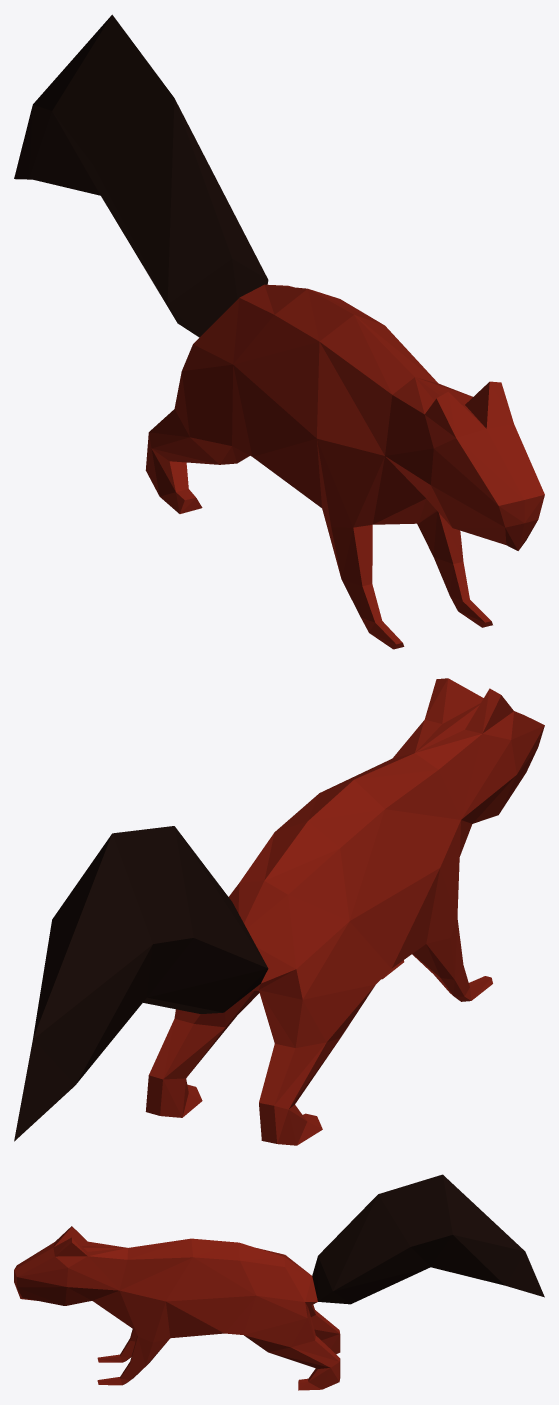
The model's file is Animal_Squirrel_M4.fbx.
3 views of the same model, one above another, from view 1: azimuth 30°, elevation 25°; view 2: azimuth 150°, elevation 25°; view 3: azimuth 270°, elevation 25° (orthographic). The views are drawn at different scales.
Visible parts, largest first — view 1: Animal_Squirrel_M4; view 2: Animal_Squirrel_M4; view 3: Animal_Squirrel_M4.
Boxes of the visible parts, x1=… form: Animal_Squirrel_M4: x1=14, y1=14, x2=544, y2=649; Animal_Squirrel_M4: x1=14, y1=678, x2=544, y2=1145; Animal_Squirrel_M4: x1=14, y1=1174, x2=544, y2=1390.
Bounding box in the file's own units: 17.82 × 45 × 109.
